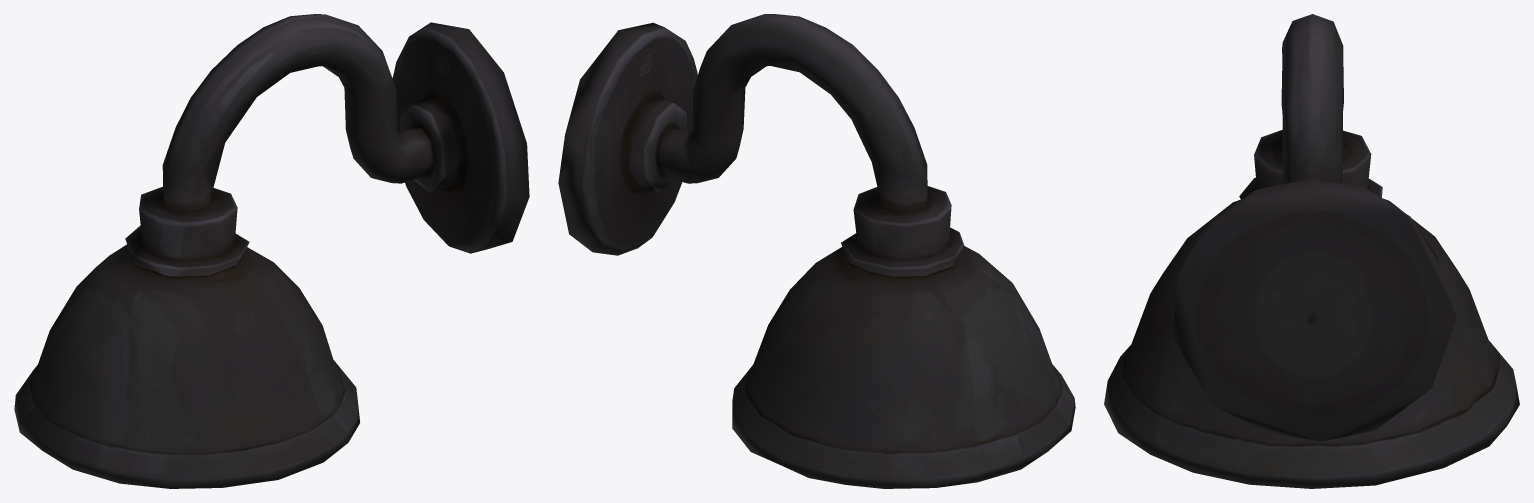
The model's file is exterior-light.glb.
The picture shows the model from 3 angles, left to right: view 1: azimuth 30°, elevation 25°; view 2: azimuth 150°, elevation 25°; view 3: azimuth 270°, elevation 25°; orthographic projection. The views are drawn at different scales.
Visible parts, largest first — view 1: geometry_0; view 2: geometry_0; view 3: geometry_0.
Boxes of the visible parts, box(x1,y1,x2,y2) form: geometry_0: box(14, 14, 529, 488); geometry_0: box(558, 14, 1075, 488); geometry_0: box(1104, 14, 1519, 488).
Size of the model in its own units: 1 by 0.8671 by 0.7114.
Materials: 1 (1 with a texture image).
